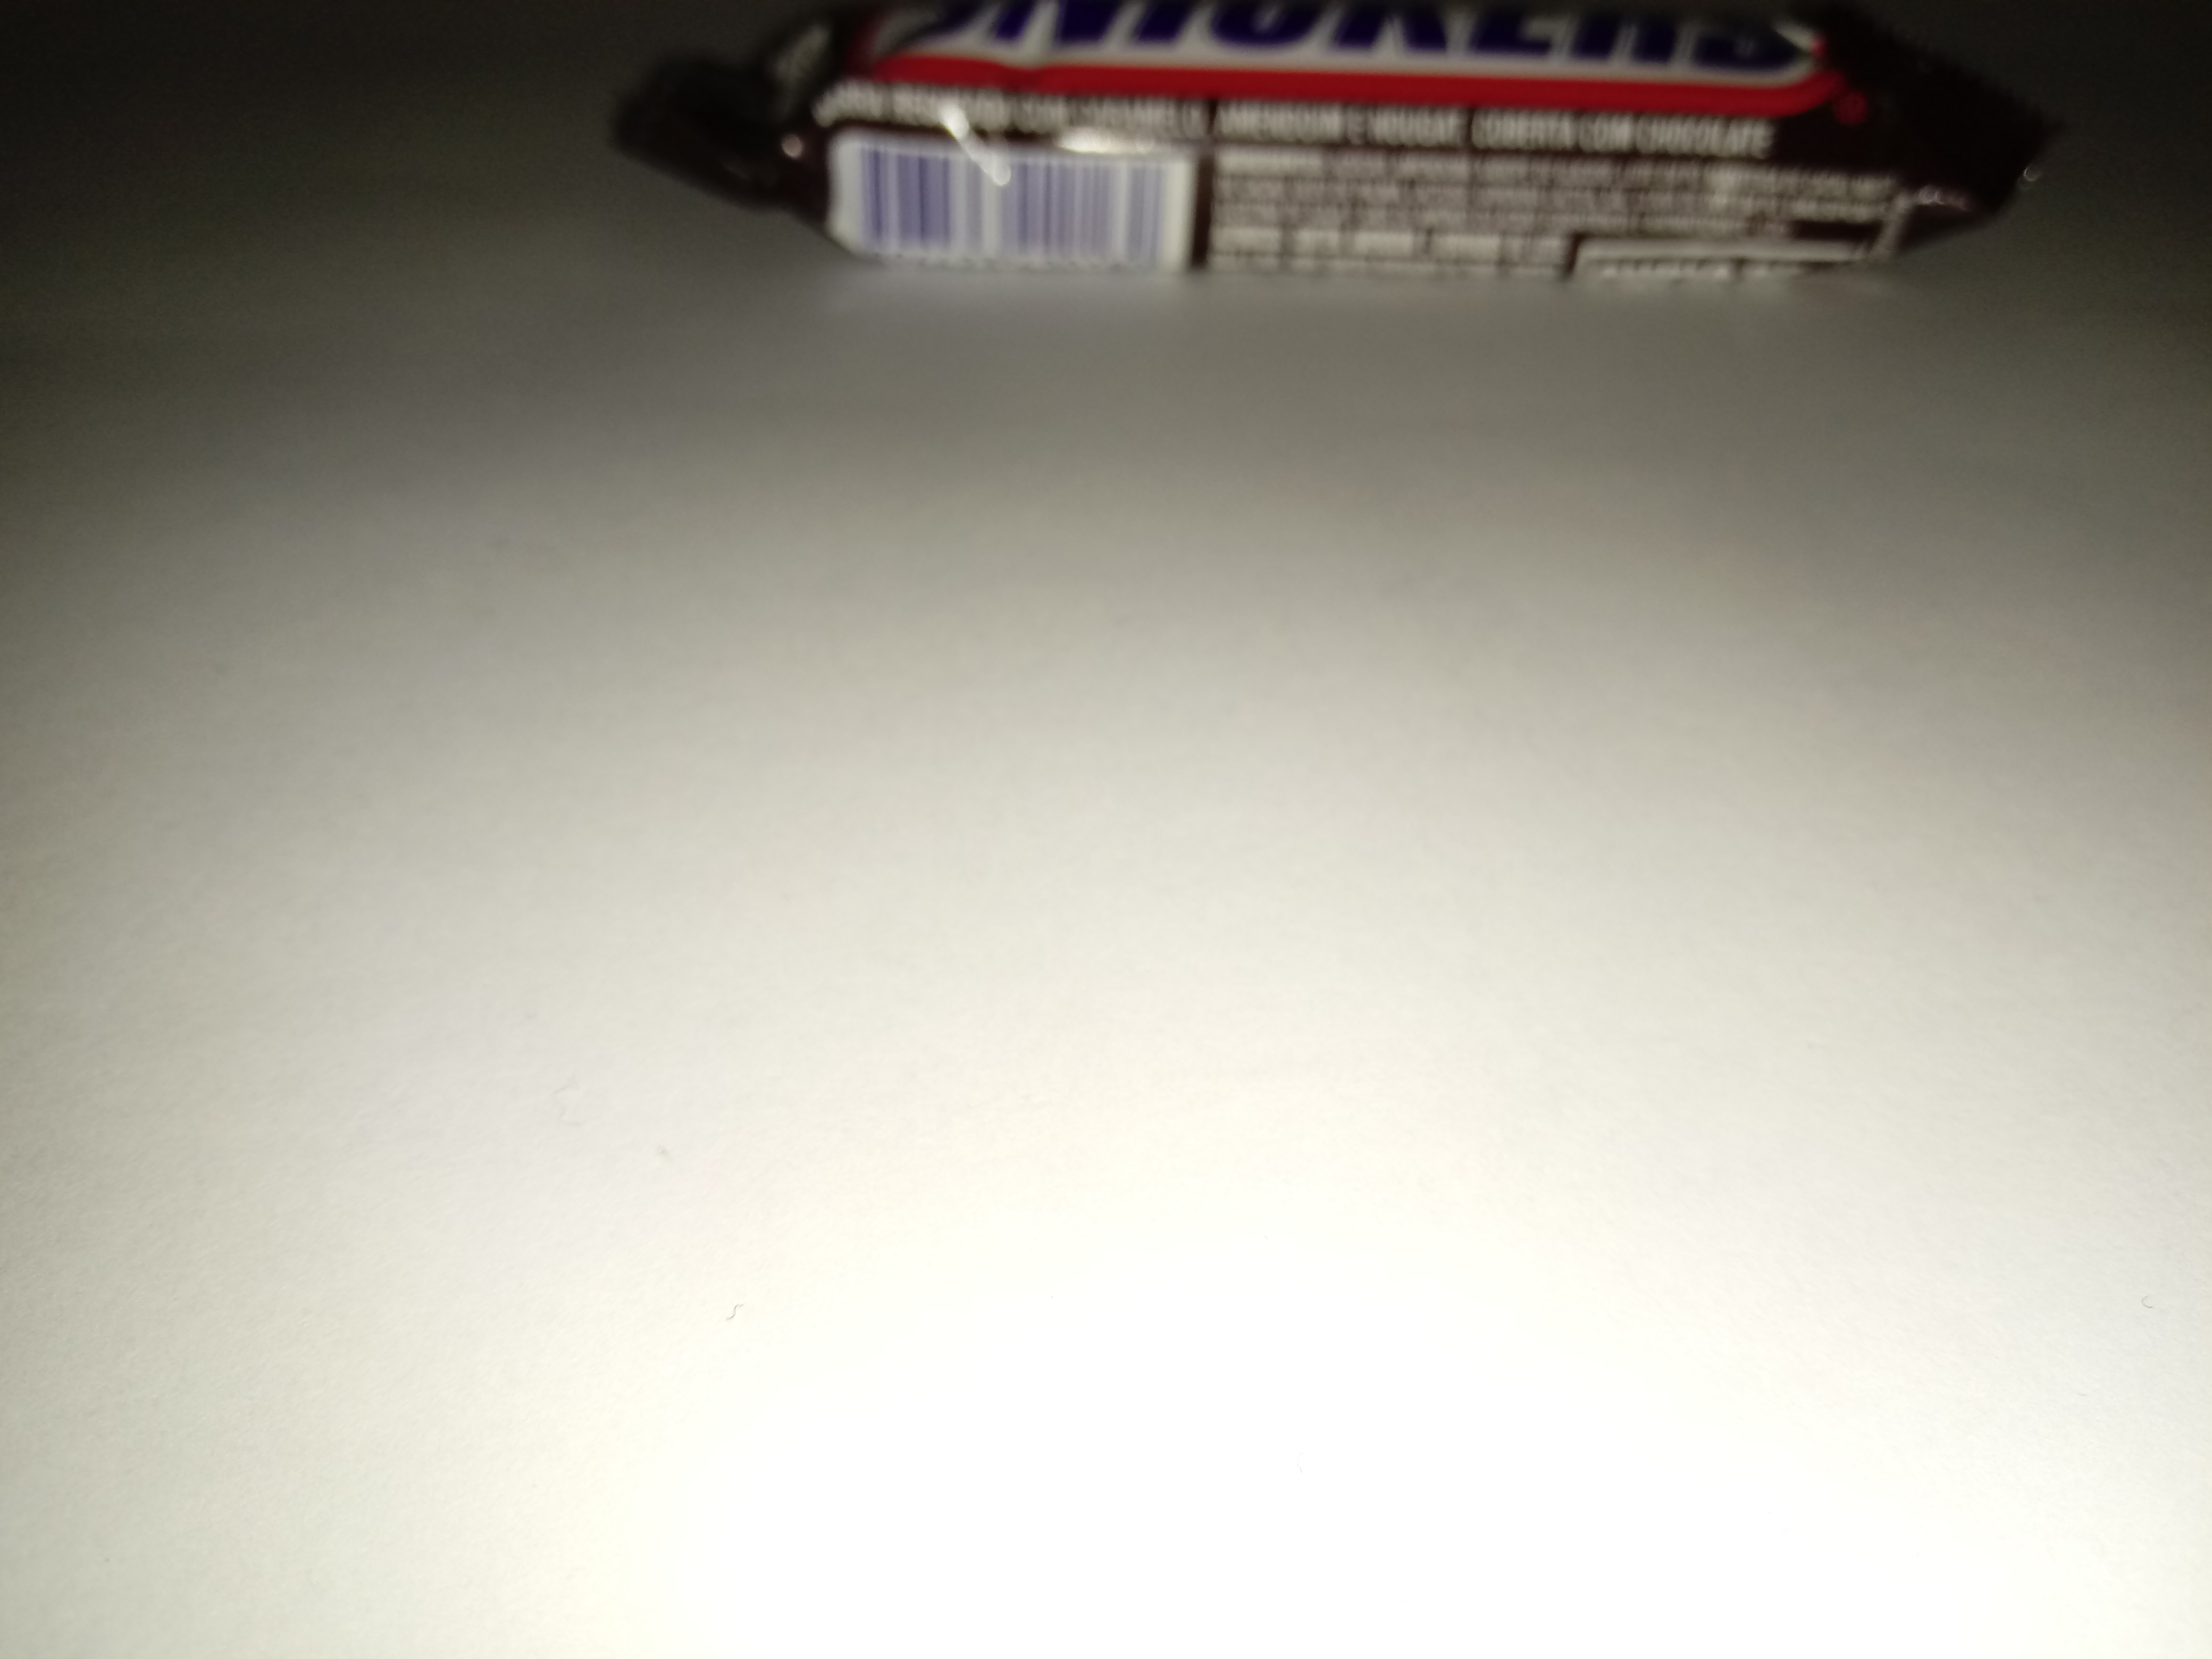snickers: (599, 7, 2083, 298)
